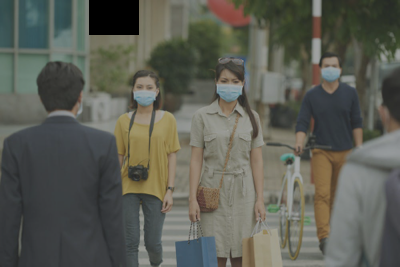with_mask: (217, 76, 243, 103), (133, 82, 157, 109), (322, 62, 341, 83)
